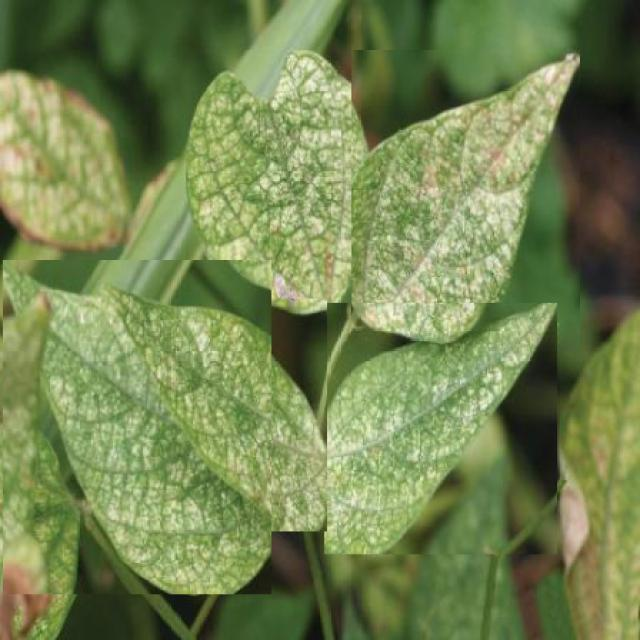Spider Mites: (2, 260, 272, 594), (352, 50, 580, 357), (324, 303, 557, 554), (103, 298, 327, 532), (186, 50, 377, 320)
